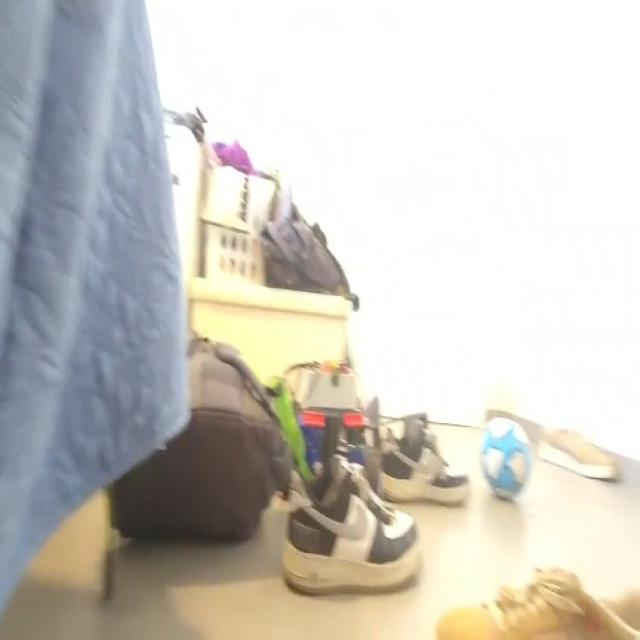Robot: (299, 360, 380, 498)
